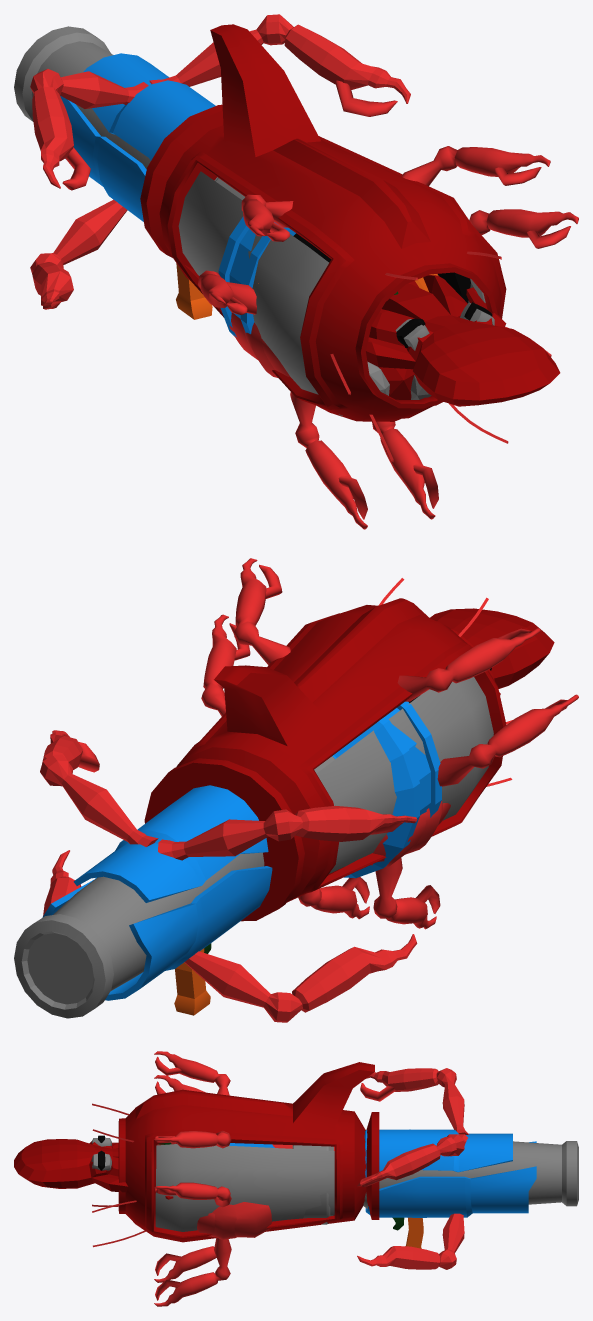
File: Weapon_Ideal.fbx
3 renders of one model, top to bottom at view 1: azimuth 30°, elevation 25°; view 2: azimuth 150°, elevation 25°; view 3: azimuth 270°, elevation 25°, orthographic. The views are drawn at different scales.
Visible parts, largest first — view 1: Module_Rebondissant, Module_Ideal, Arme_parfaite, Module_Explosif, Module_Gros_Projectile; view 2: Module_Rebondissant, Module_Ideal, Arme_parfaite, Module_Explosif; view 3: Module_Rebondissant, Module_Ideal, Arme_parfaite.
Boxes of the visible parts, x1,y1,x2,y2 form: Module_Rebondissant: (140, 24, 560, 421); Module_Ideal: (30, 14, 578, 529); Arme_parfaite: (14, 26, 244, 319); Module_Explosif: (218, 216, 438, 415); Module_Gros_Projectile: (293, 233, 470, 303); Module_Rebondissant: (144, 598, 554, 921); Module_Ideal: (40, 558, 578, 1022); Arme_parfaite: (14, 756, 334, 1018); Module_Explosif: (332, 701, 441, 878); Module_Rebondissant: (14, 1062, 379, 1242); Module_Ideal: (92, 1051, 469, 1306); Arme_parfaite: (292, 1129, 578, 1248).
Bounding box in the file's own units: 192 × 191 × 422.
